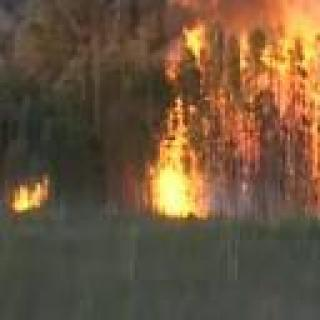fire: (145, 1, 320, 232), (15, 169, 64, 219)
